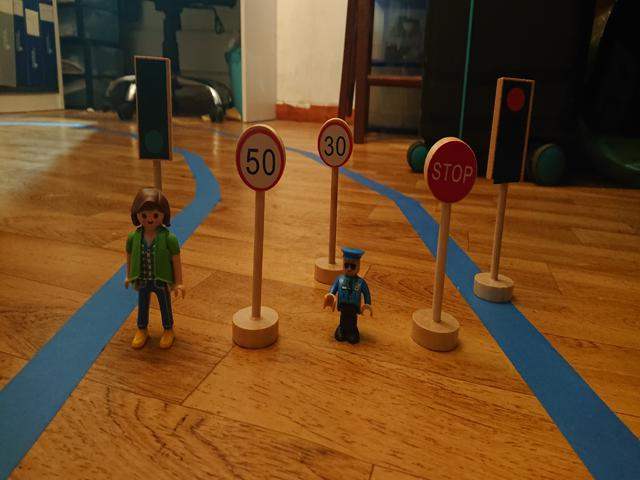30 speed sign: (318, 120, 352, 168)
50 speed sign: (233, 125, 284, 192)
green light: (137, 59, 167, 161)
person: (124, 188, 186, 351), (321, 246, 373, 343)
red light: (501, 81, 525, 178)
stop sign: (423, 141, 479, 203)
